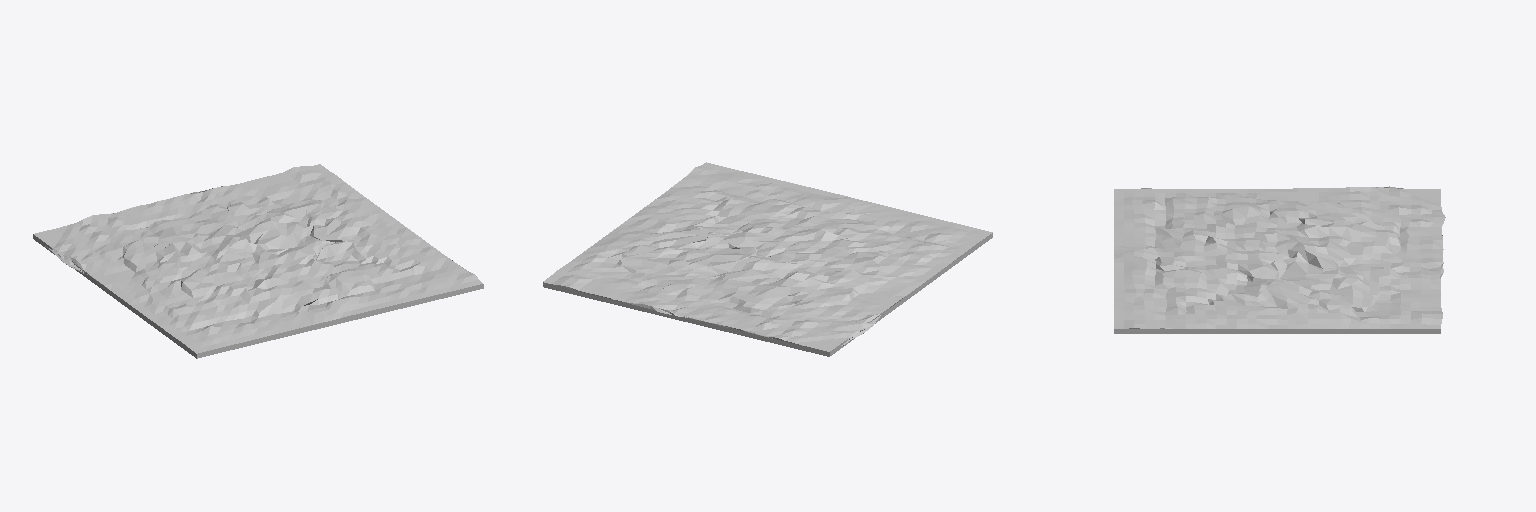
The model's file is floorWinter.obj.
3 renders of one model, left to right at view 1: azimuth 30°, elevation 25°; view 2: azimuth 150°, elevation 25°; view 3: azimuth 270°, elevation 25°, orthographic.
Parts seen in each view (by area): view 1: floorWinter; view 2: floorWinter; view 3: floorWinter.
Part boxes in pixels (x1,y1,x2,y2): floorWinter: (33,164,483,358); floorWinter: (543,162,992,356); floorWinter: (1114,186,1445,333).
Size of the model in its own units: 50.24 by 2.42 by 49.25.